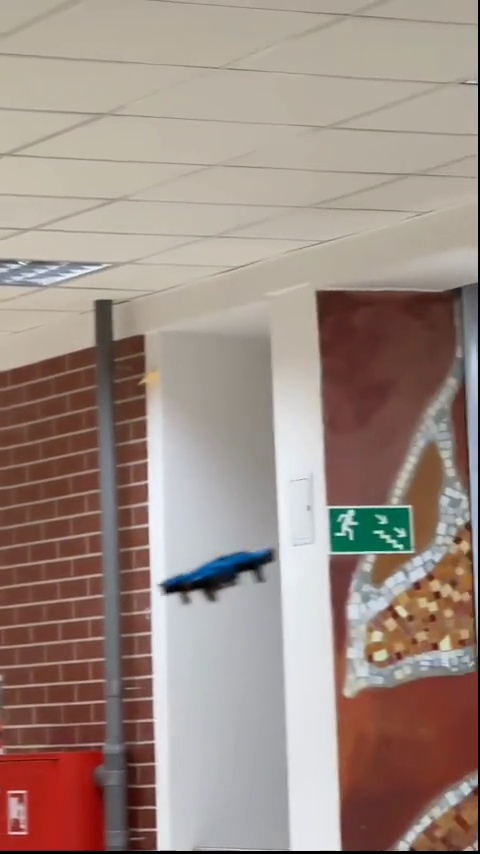drone: (156, 549, 280, 604)
